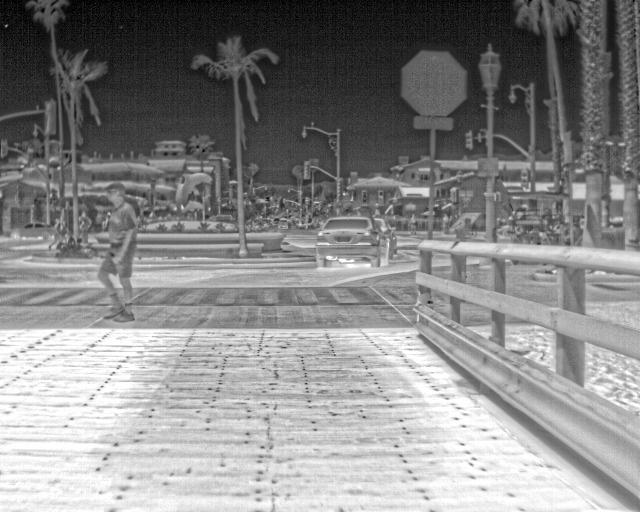bicycle: (308, 218, 382, 269), (373, 216, 396, 256), (8, 219, 47, 241)
empty: (96, 180, 139, 324), (46, 218, 64, 251), (78, 209, 93, 244), (405, 212, 418, 235), (440, 212, 453, 233)
